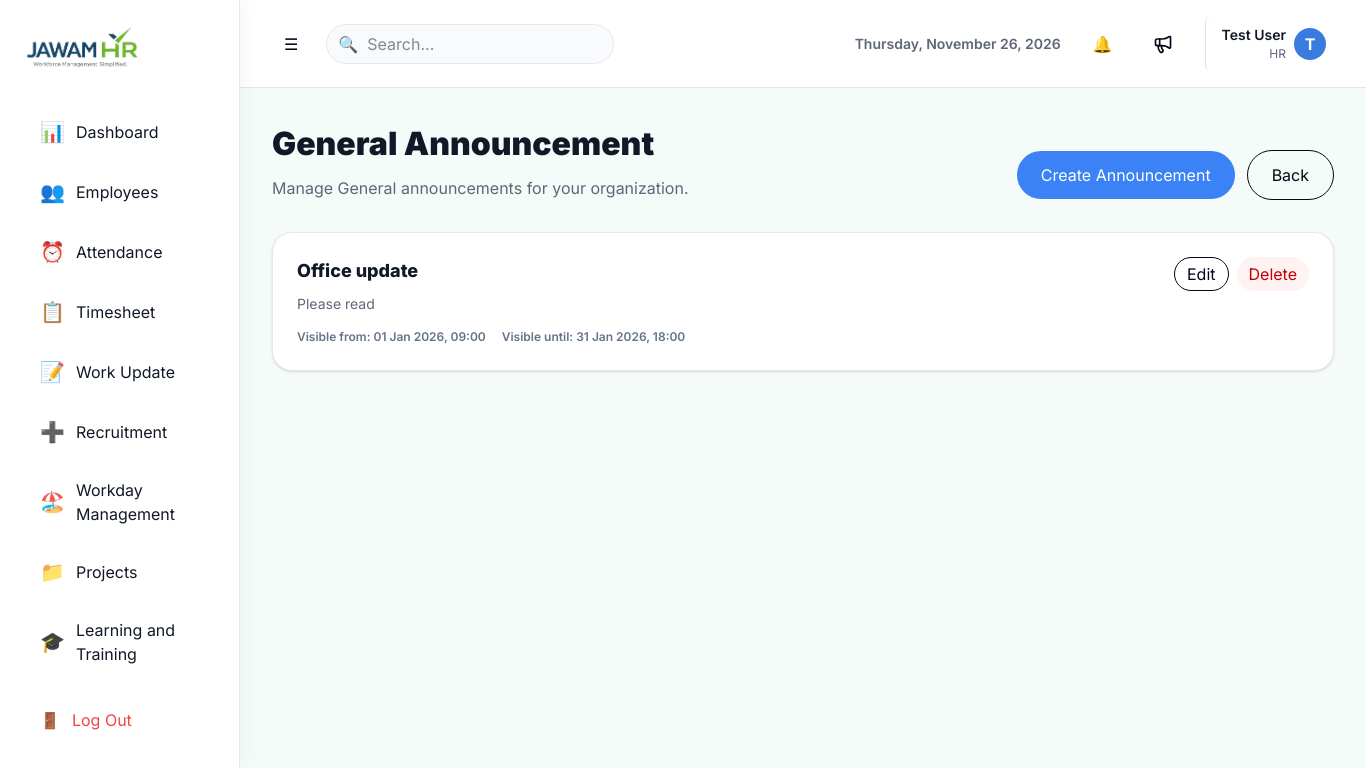
Test: Announcements page › opens create and edit forms with the expected mode and values
Click the button "Edit". click: (1201, 274)
box: x1=1174 y1=257 x2=1228 y2=291
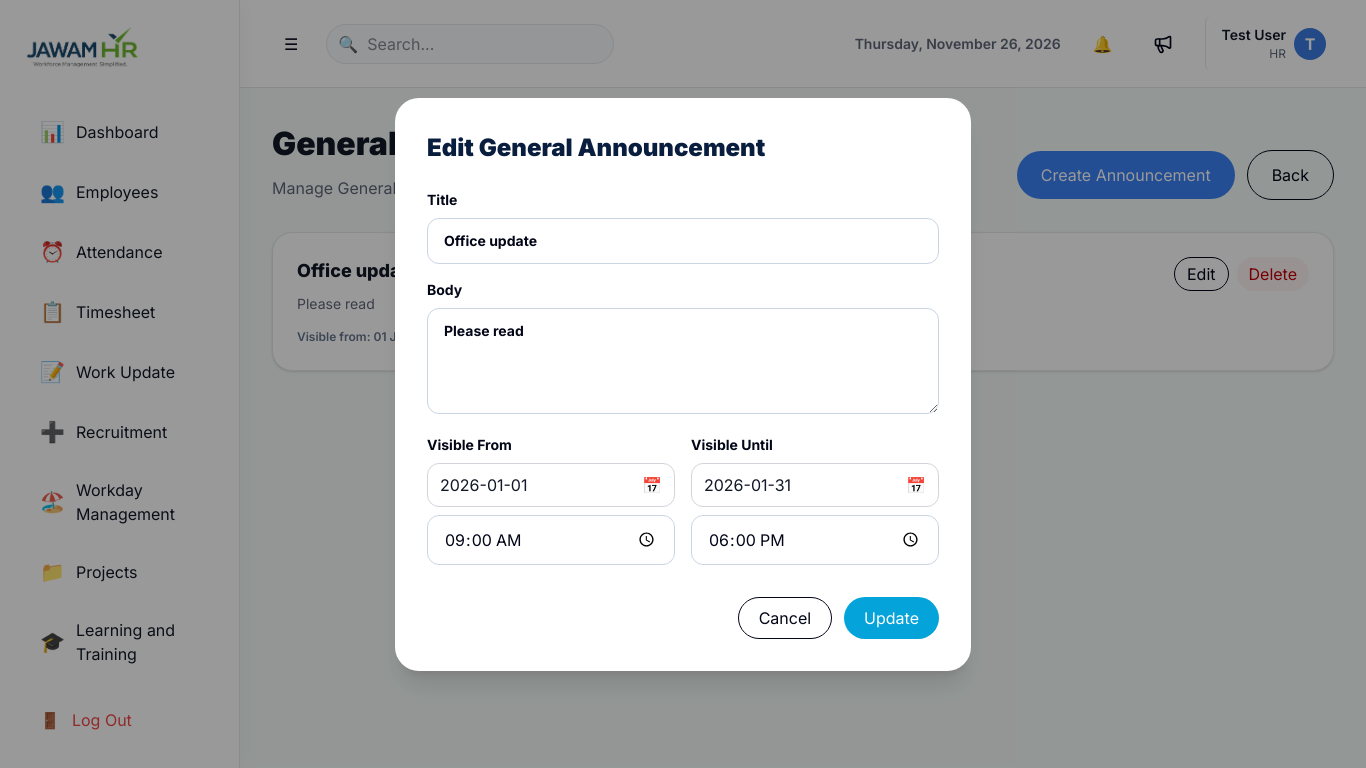
Expected: the dialog shows "Edit General Announcement", x1=427 y1=132 x2=765 y2=162
Expected: the field showing "Office update" is shown, x1=427 y1=218 x2=939 y2=264
Click the button "Cancel". click: (785, 618)
box: x1=738 y1=596 x2=832 y2=638
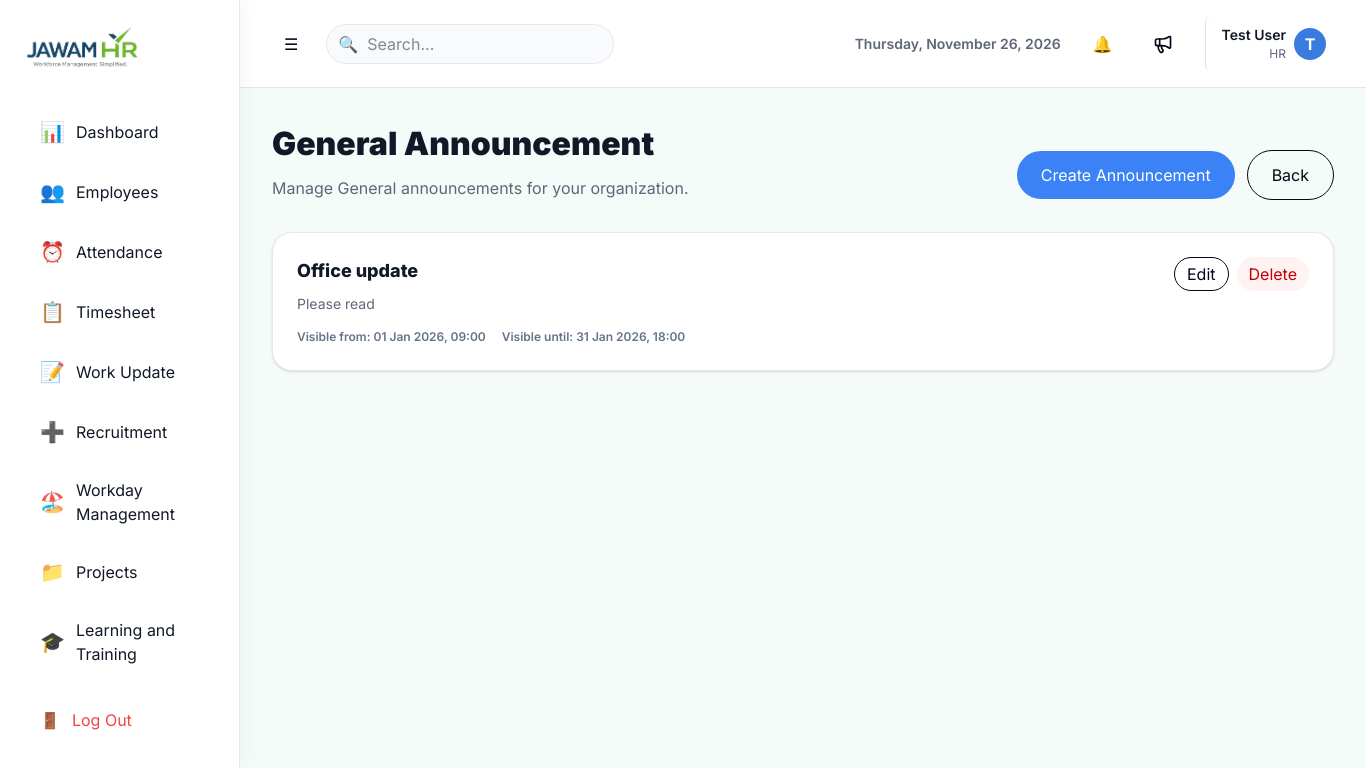
Click the button "Create Announcement". click: (1126, 175)
box: x1=1017 y1=151 x2=1235 y2=199
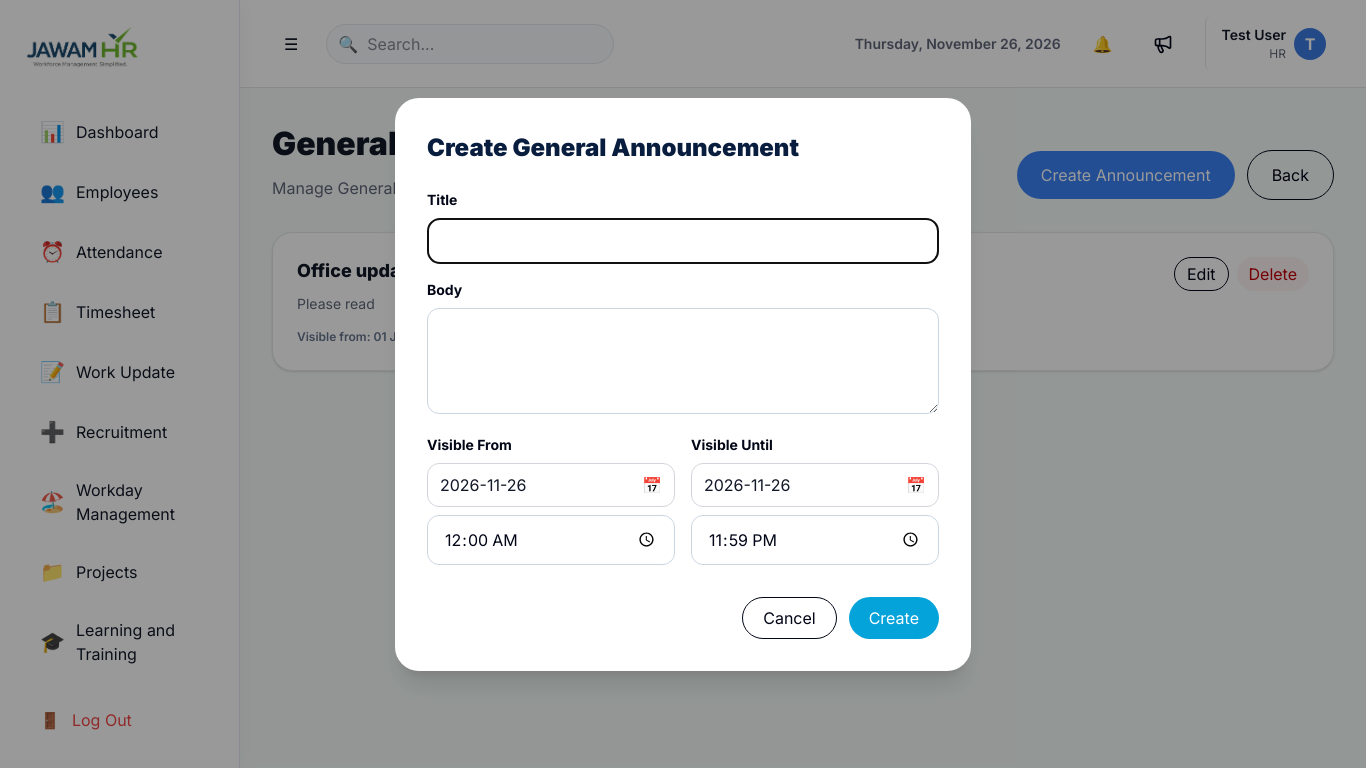
Expected: the dialog shows "Create General Announcement", x1=427 y1=132 x2=799 y2=162
Expected: the field labelled "Title" is empty, x1=427 y1=218 x2=939 y2=264
